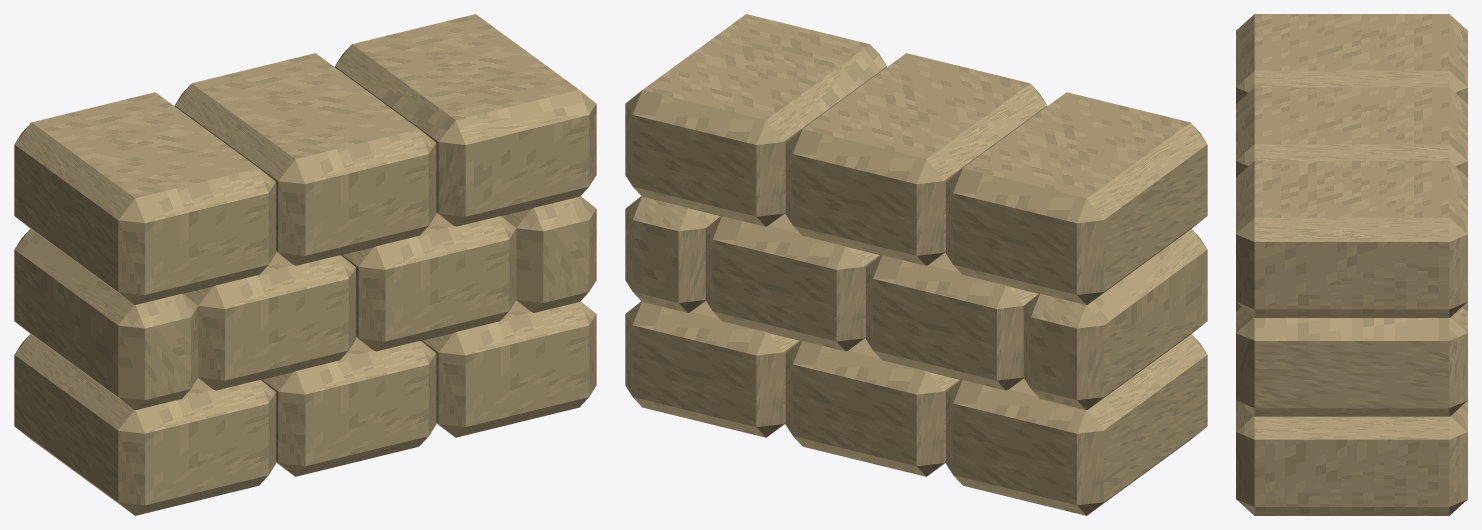
Rendered from f_sandbag_half.glb.
The picture shows the model from 3 angles, left to right: view 1: azimuth 30°, elevation 25°; view 2: azimuth 150°, elevation 25°; view 3: azimuth 270°, elevation 25°; orthographic projection. The views are drawn at different scales.
Parts seen in each view (by area): view 1: block_bag-2--0.33, block_bag-2-0, block_bag-2-0.33, block_bag-0--0.33, block_bag-1--0.41, block_bag-0-0, block_bag-0-0.33, block_bag-1-0.165, block_bag-1--0.165, block_bag-1-0.41; view 2: block_bag-2--0.33, block_bag-2-0, block_bag-2-0.33, block_bag-0--0.33, block_bag-1--0.41, block_bag-0-0, block_bag-0-0.33, block_bag-1-0.165, block_bag-1--0.165, block_bag-1-0.41; view 3: block_bag-2-0.33, block_bag-0-0.33, block_bag-1-0.41, block_bag-2--0.33, block_bag-2-0.
Boxes of the visible parts, <box> form: block_bag-2--0.33: <box>14,92,275,304</box>; block_bag-2-0: <box>174,53,436,265</box>; block_bag-2-0.33: <box>335,14,596,226</box>; block_bag-0--0.33: <box>14,334,275,515</box>; block_bag-1--0.41: <box>14,229,198,409</box>; block_bag-0-0: <box>261,338,436,476</box>; block_bag-0-0.33: <box>421,301,596,437</box>; block_bag-1-0.165: <box>341,213,516,351</box>; block_bag-1--0.165: <box>183,252,355,390</box>; block_bag-1-0.41: <box>501,196,596,312</box>; block_bag-2--0.33: <box>946,92,1207,304</box>; block_bag-2-0: <box>785,53,1047,265</box>; block_bag-2-0.33: <box>625,14,886,226</box>; block_bag-0--0.33: <box>946,334,1207,515</box>; block_bag-1--0.41: <box>1023,229,1207,409</box>; block_bag-0-0: <box>785,338,960,476</box>; block_bag-0-0.33: <box>625,301,800,437</box>; block_bag-1-0.165: <box>705,213,880,351</box>; block_bag-1--0.165: <box>866,252,1038,390</box>; block_bag-1-0.41: <box>625,196,720,312</box>; block_bag-2-0.33: <box>1236,161,1467,317</box>; block_bag-0-0.33: <box>1236,400,1467,515</box>; block_bag-1-0.41: <box>1236,307,1467,416</box>; block_bag-2--0.33: <box>1236,14,1467,103</box>; block_bag-2-0: <box>1236,87,1467,177</box>.
Size of the model in its own units: 0.985 by 0.625 by 0.44.
Materials: 1 (1 with a texture image).
